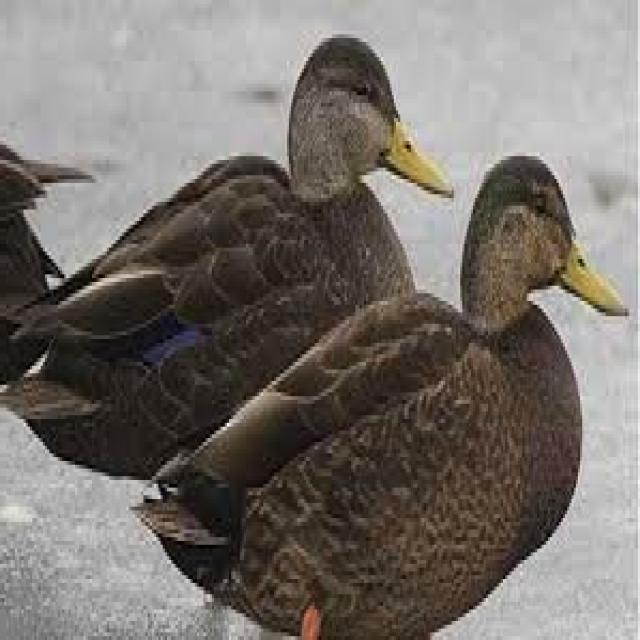duck: (135, 156, 627, 636), (2, 34, 454, 476)
